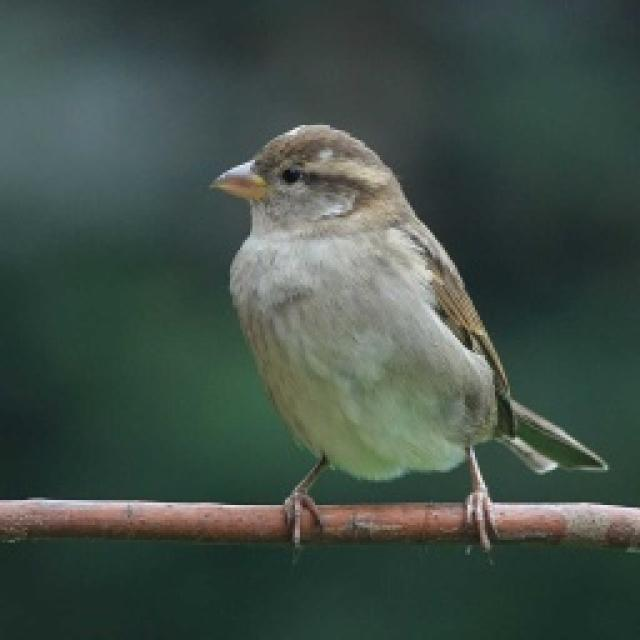sparrow: (200, 117, 610, 555)
